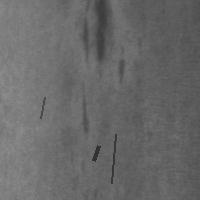inclusion: (76, 1, 113, 78), (76, 84, 94, 138), (115, 45, 129, 86), (109, 132, 117, 185), (38, 95, 46, 120), (91, 144, 100, 163)
